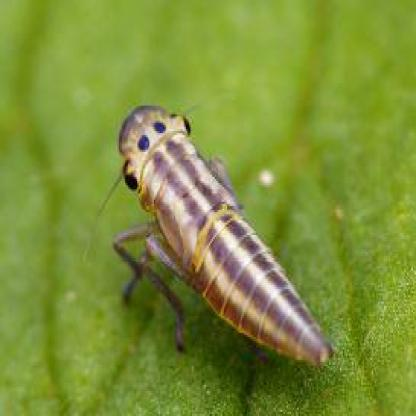Green-Leafhopper: (117, 98, 339, 372)
